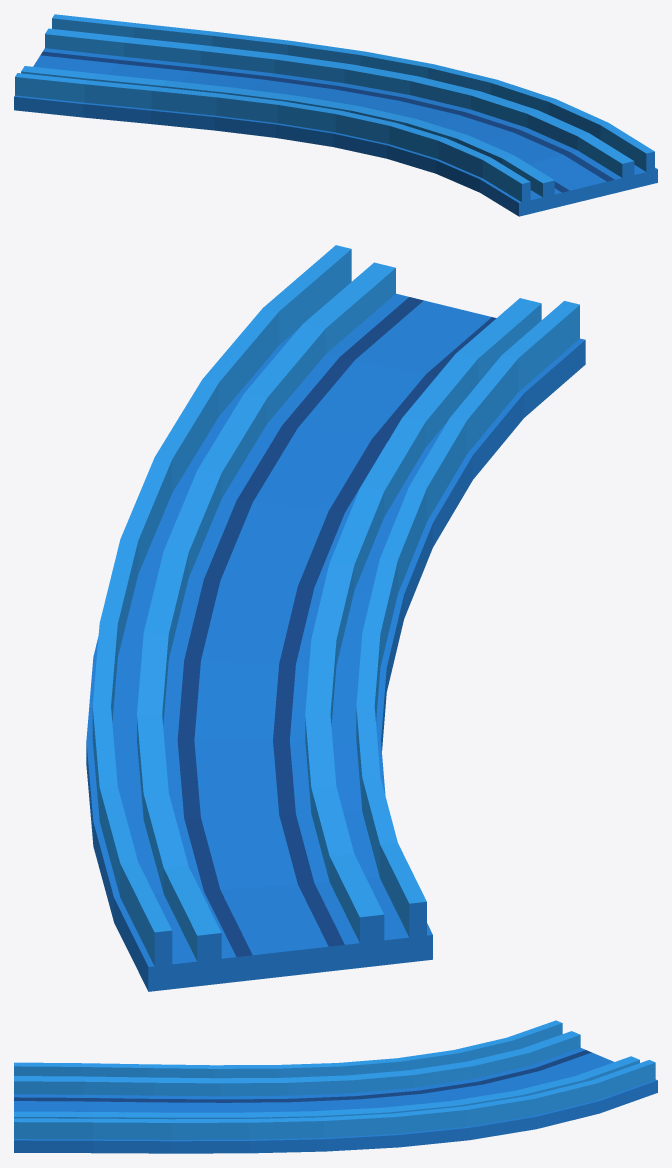
The model's file is Track_Slope_Curve_Left_Down.fbx.
3 renders of one model, top to bottom at view 1: azimuth 30°, elevation 25°; view 2: azimuth 150°, elevation 25°; view 3: azimuth 270°, elevation 25°, orthographic. The views are drawn at different scales.
Visible parts, largest first — view 1: Molded blue rail; view 2: Molded blue rail; view 3: Molded blue rail.
Boxes of the visible parts, left/top/right/bottom form: Molded blue rail: left=14, top=14, right=657, bottom=216; Molded blue rail: left=86, top=245, right=585, bottom=991; Molded blue rail: left=14, top=1020, right=657, bottom=1153.
Size of the model in its own units: 266 by 64.88 by 462.
